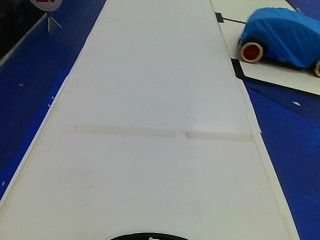car: (238, 4, 318, 75)
